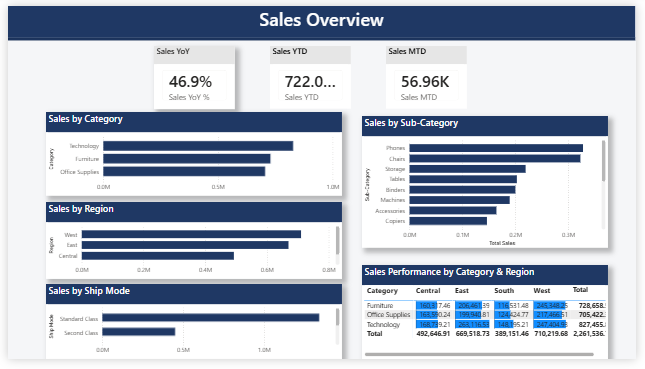

This screenshot's page, from the dashboard's own definition file:
{"tool":"powerbi","page":{"name":"Profitability & Discounts","canvas":[1280,720],"ordinal":4},"visuals":[{"type":"cardVisual","title":"Sales YoY","fields":{"Data":["_Measures.Sales YoY %"]},"box":[298,81.6,165.3,128.6],"z":0},{"type":"cardVisual","title":"Sales YTD","fields":{"Data":["_Measures.Sales YTD"]},"box":[534.7,81.6,165.3,128],"z":1000},{"type":"cardVisual","title":"Sales MTD","fields":{"Data":["_Measures.Sales MTD"]},"box":[771.4,81.6,165.3,128],"z":2000},{"type":"clusteredBarChart","title":"Sales by Category","fields":{"Category":["Dim_Product.Category"],"Y":["_Measures.Total Sales"]},"box":[77.6,216.3,604.1,171.4],"z":3000},{"type":"clusteredBarChart","title":"Sales by Sub-Category","fields":{"Category":["Dim_Product.Sub-Category"],"Y":["_Measures.Total Sales"]},"box":[722.4,224.5,502,269.4],"z":4000},{"type":"clusteredBarChart","title":"Sales by Region","fields":{"Category":["Dim_Geography.Region"],"Y":["_Measures.Total Sales"]},"box":[77.6,399,604.1,157.1],"z":5000},{"type":"clusteredBarChart","title":"Sales by Ship Mode","fields":{"Category":["Fact_Orders.Ship Mode"],"Y":["_Measures.Total Sales"]},"box":[77.6,566.9,604.1,153.1],"z":6000},{"type":"pivotTable","title":"Sales Performance by Category & Region","fields":{"Rows":["Dim_Product.Category"],"Columns":["Dim_Geography.Region"],"Values":["_Measures.Total Sales"]},"box":[722.4,528.6,502,191.8],"z":7000},{"type":"shape","title":"Profitability & Discounts","box":[0,0,1280,70],"z":9000}]}

Visuals, with their boxes in screenshot pixels (x1, y1, x2, y2), scaled from the page's 1280x720 canvas onto the 645x369 screenshot:
"Sales YoY" cardVisual: 150/42/233/108
"Sales YTD" cardVisual: 269/42/353/107
"Sales MTD" cardVisual: 389/42/472/107
"Sales by Category" clusteredBarChart: 39/111/344/199
"Sales by Sub-Category" clusteredBarChart: 364/115/617/253
"Sales by Region" clusteredBarChart: 39/204/344/285
"Sales by Ship Mode" clusteredBarChart: 39/291/344/368
"Sales Performance by Category & Region" pivotTable: 364/271/617/368
"Profitability & Discounts" shape: 0/0/644/36
